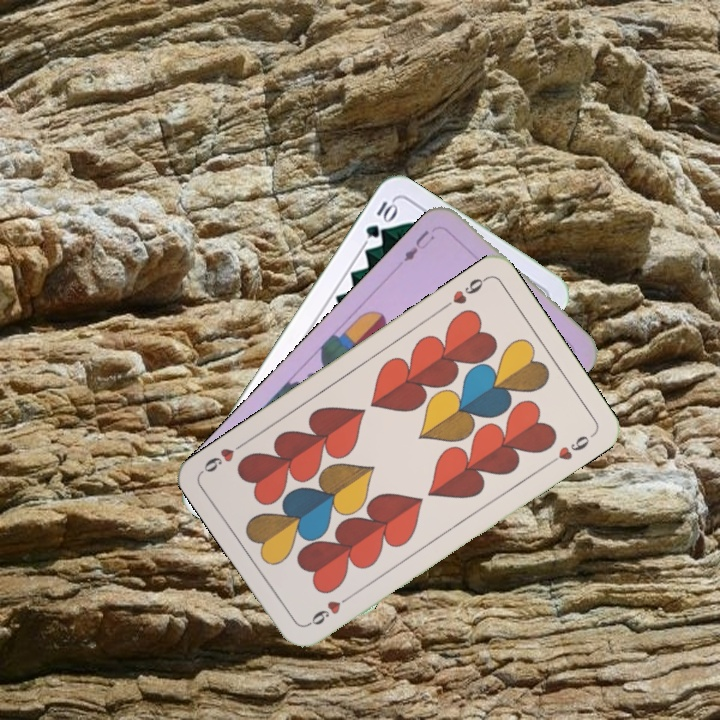EU: (399, 225, 438, 265)
G10: (361, 197, 400, 241)
H9: (438, 273, 490, 312), (303, 590, 355, 629)
